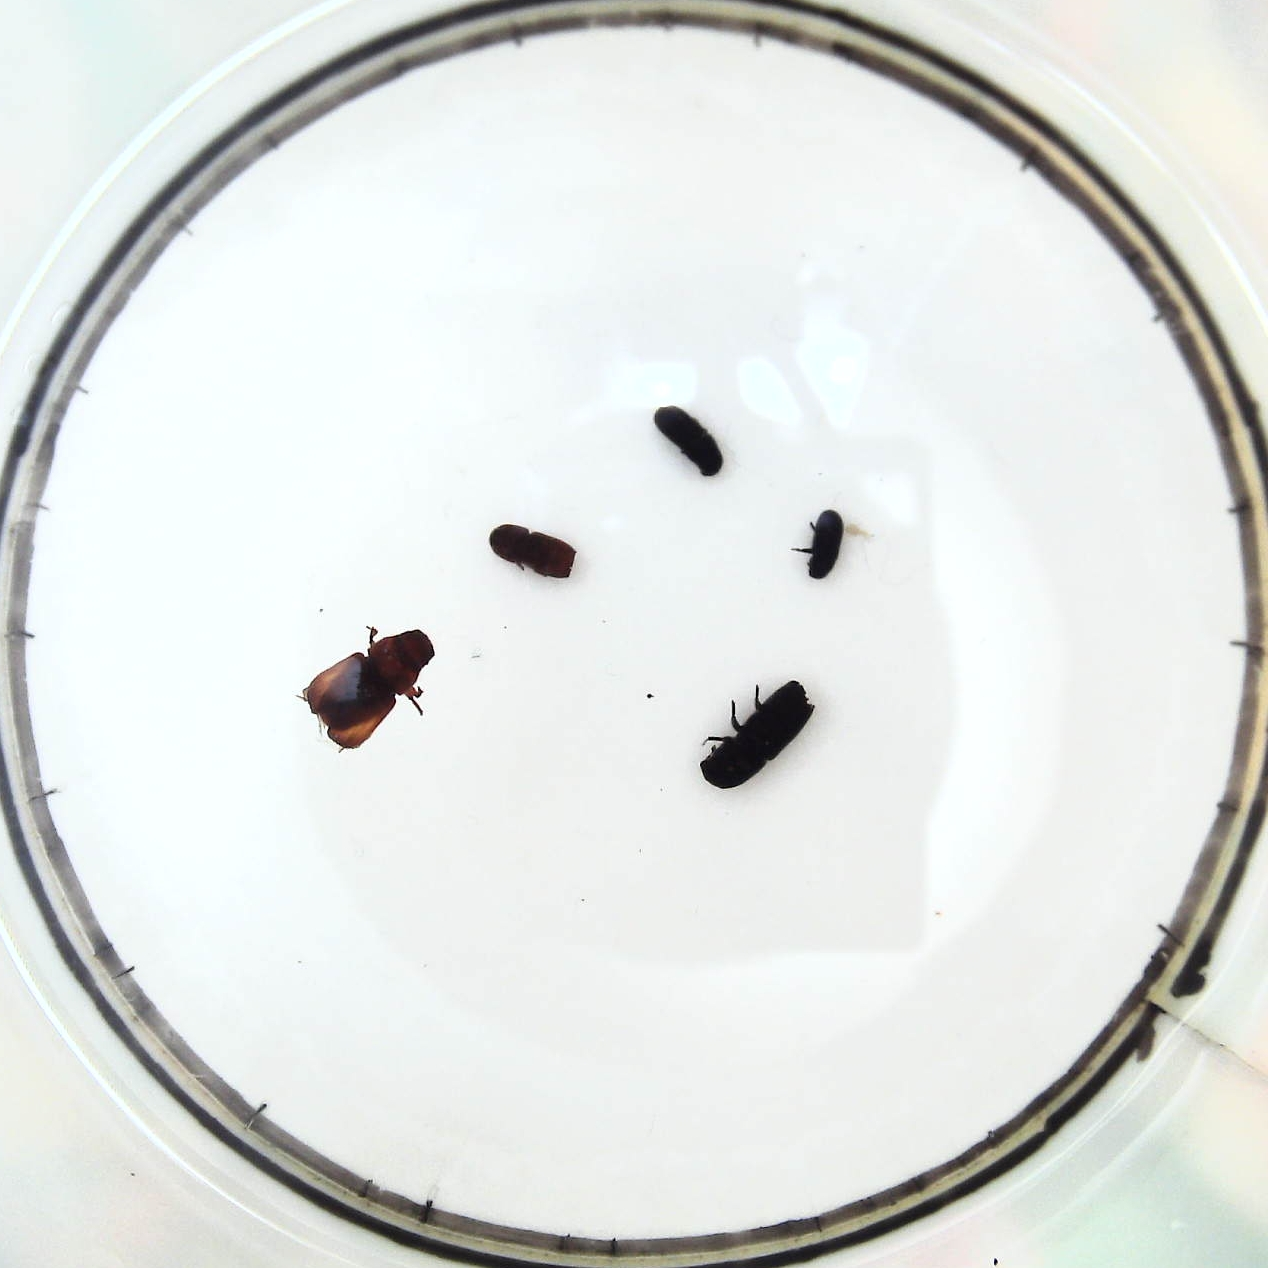Boerner: (694, 679, 815, 792)
Leconte: (301, 628, 432, 747)
Linnaeus: (489, 526, 577, 586)
armandi: (653, 401, 722, 480)
coleoptera: (798, 509, 849, 579)
